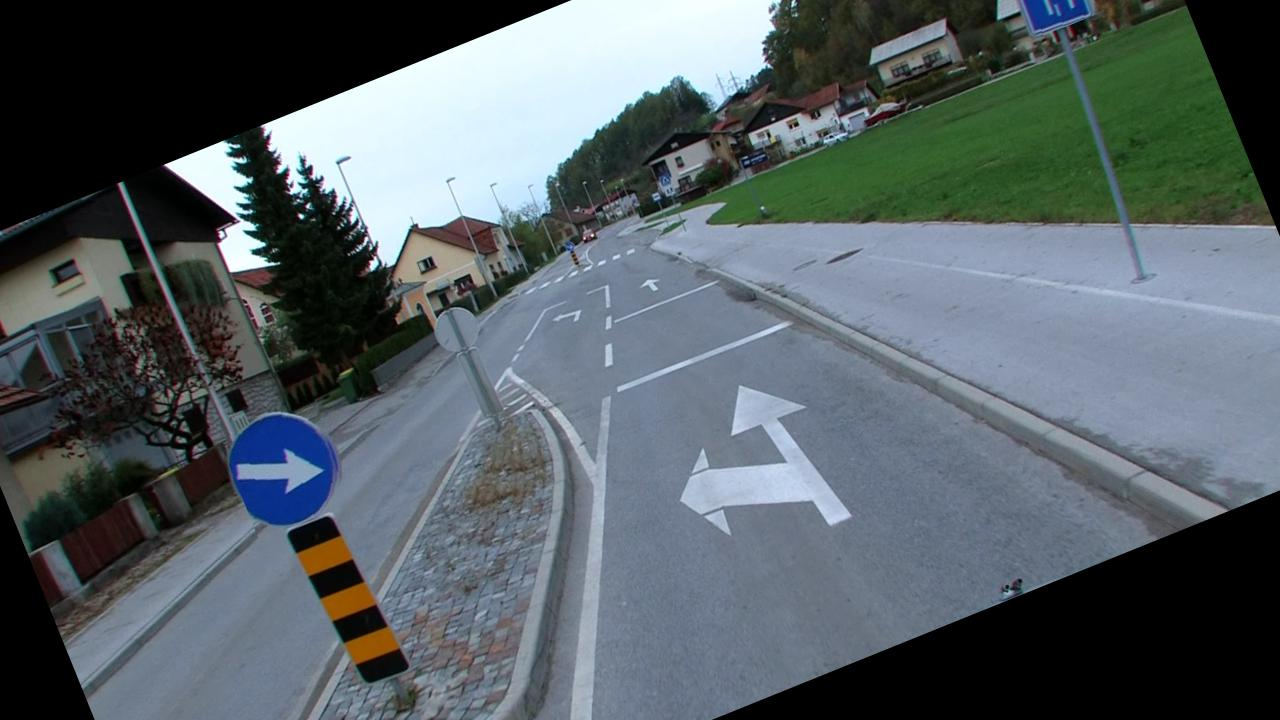Rectangle: (988, 0, 1098, 40), (660, 172, 675, 188)
Round: (216, 394, 356, 540), (566, 239, 578, 256)
